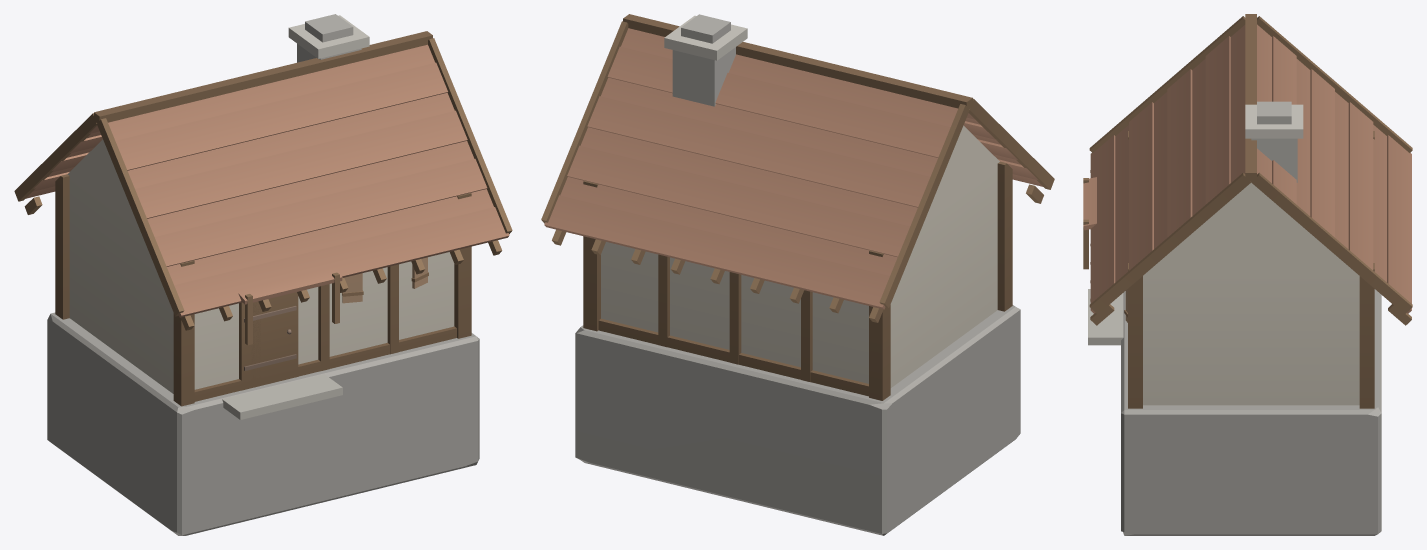
The model's file is haus_huette.glb.
3 views of the same model, side by side, from view 1: azimuth 30°, elevation 25°; view 2: azimuth 150°, elevation 25°; view 3: azimuth 270°, elevation 25° (orthographic). The views are drawn at different scales.
Visible parts, largest first — view 1: G_haus_huette; view 2: G_haus_huette; view 3: G_haus_huette.
Boxes of the visible parts, x1=… form: G_haus_huette: x1=14, y1=14, x2=512, y2=535; G_haus_huette: x1=541, y1=14, x2=1054, y2=535; G_haus_huette: x1=1083, y1=14, x2=1412, y2=535.
Size of the model in its own units: 6.5 by 7.49 by 5.69.
